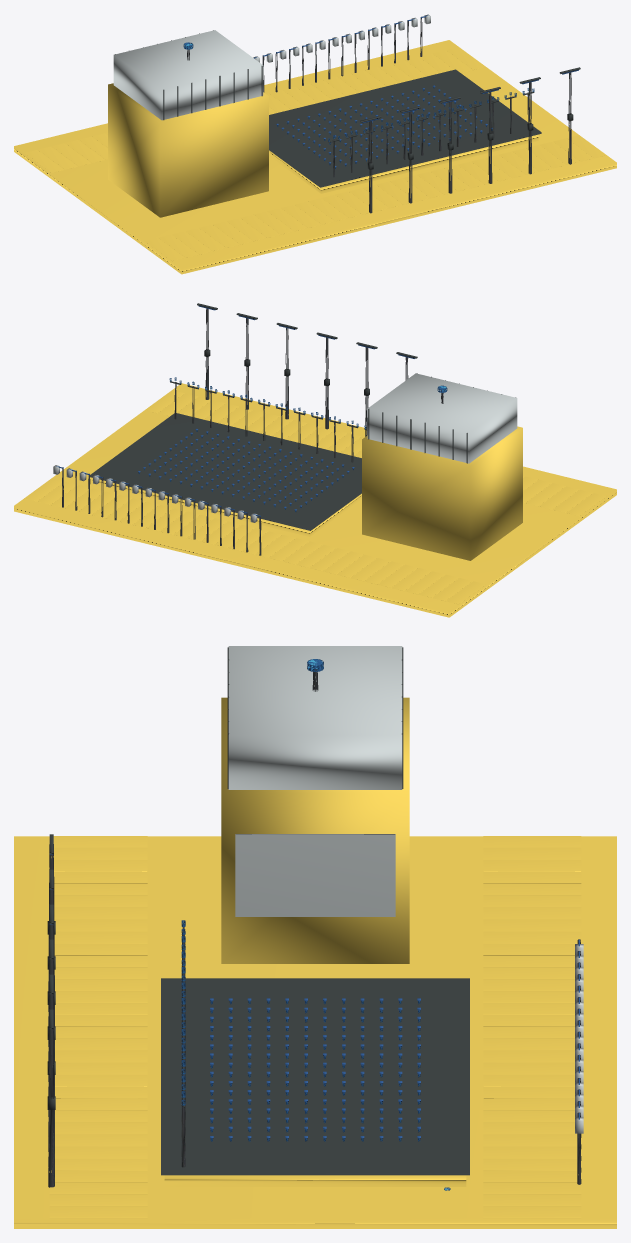
3 views of the same model, one above another, from view 1: azimuth 30°, elevation 25°; view 2: azimuth 150°, elevation 25°; view 3: azimuth 270°, elevation 25° (orthographic). The views are drawn at different scales.
Visible parts, largest first — view 1: lighting_tower_and_plaza, lighting_glass_and_display, lighting_poles_and_lanterns, lighting_glowing_map; view 2: lighting_tower_and_plaza, lighting_glass_and_display, lighting_poles_and_lanterns, lighting_glowing_map; view 3: lighting_tower_and_plaza, lighting_glass_and_display, lighting_poles_and_lanterns, lighting_glowing_map.
Part boxes in pixels (x1,y1,x2,y2): lighting_tower_and_plaza: (14,40,616,274); lighting_glass_and_display: (113,30,263,120); lighting_poles_and_lanterns: (253,14,580,213); lighting_glowing_map: (184,42,578,168); lighting_tower_and_plaza: (14,383,616,617); lighting_glass_and_display: (367,373,517,463); lighting_poles_and_lanterns: (53,303,417,555); lighting_glowing_map: (138,306,446,511); lighting_tower_and_plaza: (14,659,616,1228); lighting_glass_and_display: (227,646,403,916); lighting_poles_and_lanterns: (47,834,583,1190); lighting_glowing_map: (50,659,420,1141).
Size of the model in its own units: 48 by 15.45 by 32.
Materials: 4 (4 with a texture image).
